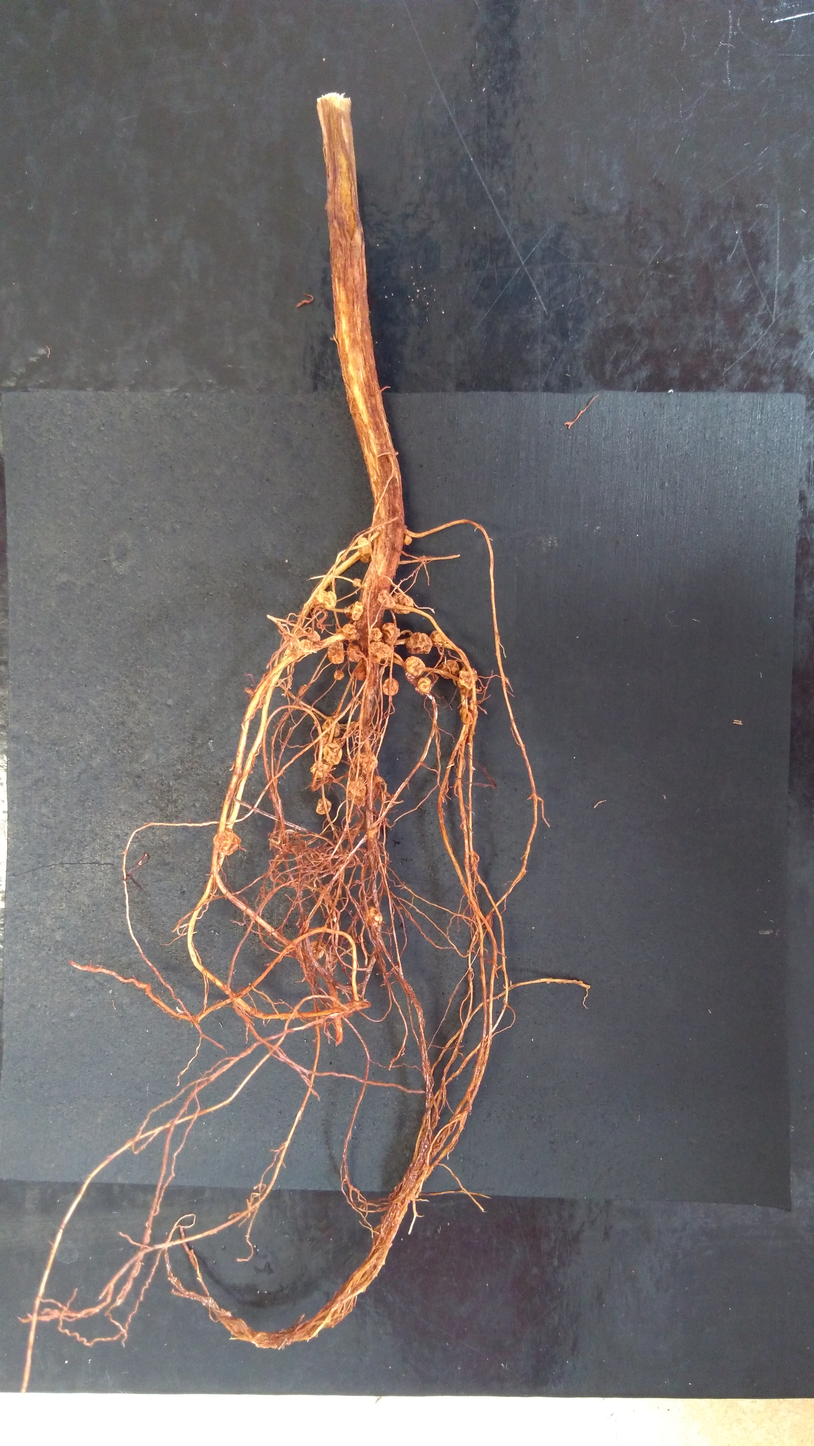nodule: (213, 828, 241, 856), (406, 632, 433, 654), (355, 751, 378, 774), (312, 589, 336, 610), (362, 905, 383, 927), (392, 593, 414, 614), (404, 656, 425, 677), (323, 742, 342, 765), (304, 940, 326, 959), (368, 641, 392, 658), (439, 659, 459, 679), (310, 759, 331, 778), (459, 668, 477, 690), (358, 537, 372, 563), (349, 776, 367, 796), (377, 589, 395, 609), (328, 642, 344, 664), (345, 602, 363, 621), (460, 705, 477, 725), (322, 719, 340, 737), (347, 642, 363, 662), (383, 627, 399, 645), (382, 677, 398, 695), (316, 798, 331, 815), (429, 630, 446, 645), (351, 791, 366, 807), (417, 676, 431, 693), (382, 622, 395, 638), (459, 684, 473, 698), (354, 664, 365, 681), (342, 623, 356, 636), (369, 628, 383, 641), (307, 630, 320, 642), (300, 639, 313, 650), (320, 733, 329, 747), (381, 791, 391, 803), (371, 775, 384, 784), (368, 828, 378, 839), (298, 685, 308, 696), (334, 670, 344, 681), (404, 532, 412, 545), (332, 737, 341, 747), (353, 578, 361, 587), (284, 635, 290, 642)
